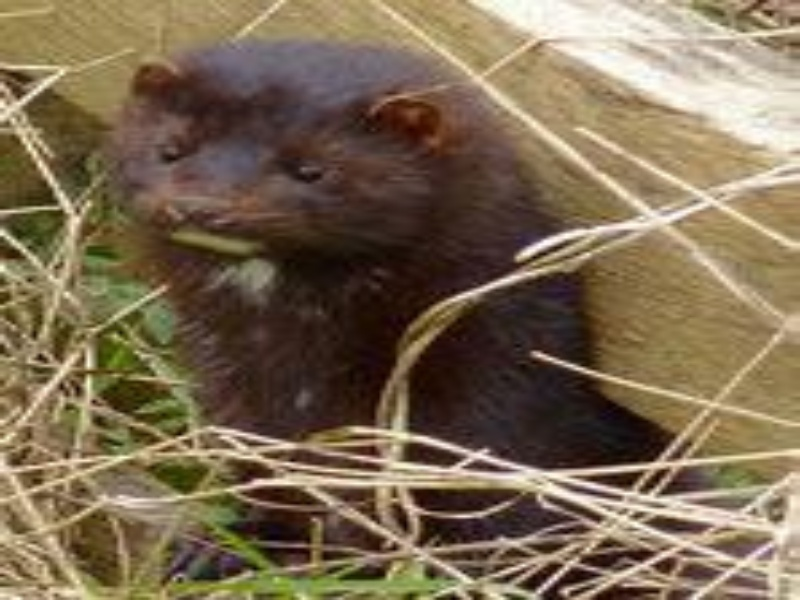minkish: (109, 38, 713, 590)
